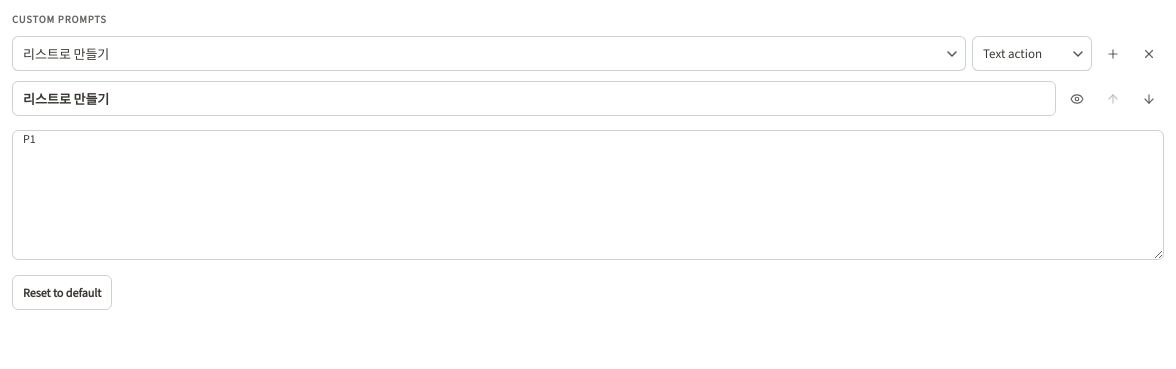
Test case: AiActionEditor — single-column preset editor (프리셋 관리 모달의 AI 액션 탭) › deleting the selected preset selects the next neighbour, and the one above when deleting the last
Click the button with test id "ai-action-select" at (66, 54), box [12,36,966,71]
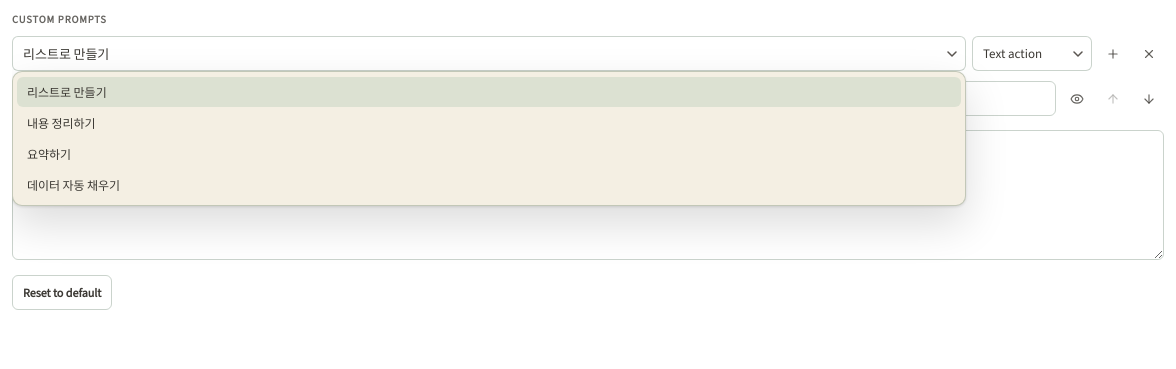
Click the option "내용 정리하기" at (61, 124), box [27,116,96,132]
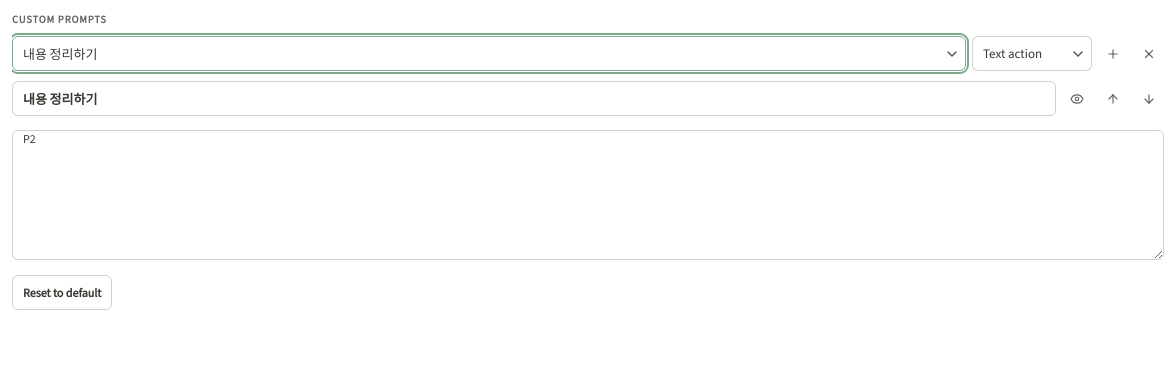
Click the button named "Delete" at (1149, 54), box [1134,38,1164,68]
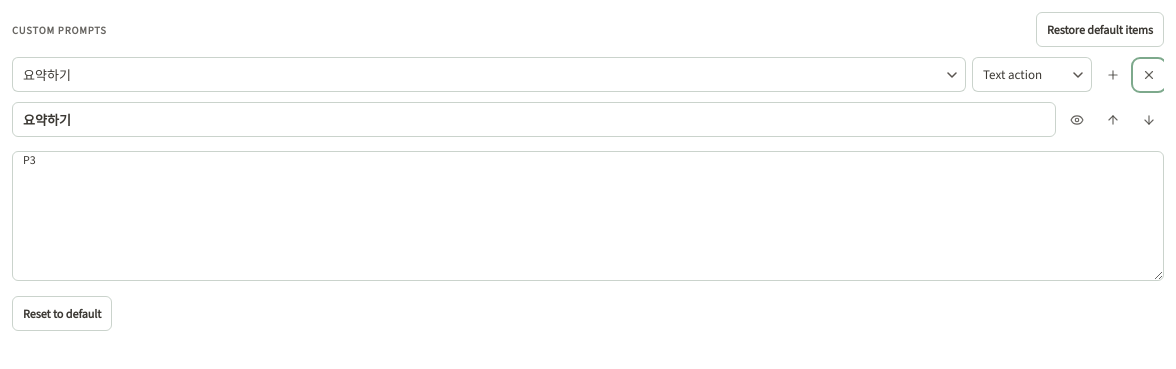
Expected: the button with test id "ai-action-select" reads "요약하기"
# Now delete the last one — the neighbour above takes over.
Click the button with test id "ai-action-select" at (47, 76), box [12,57,966,92]
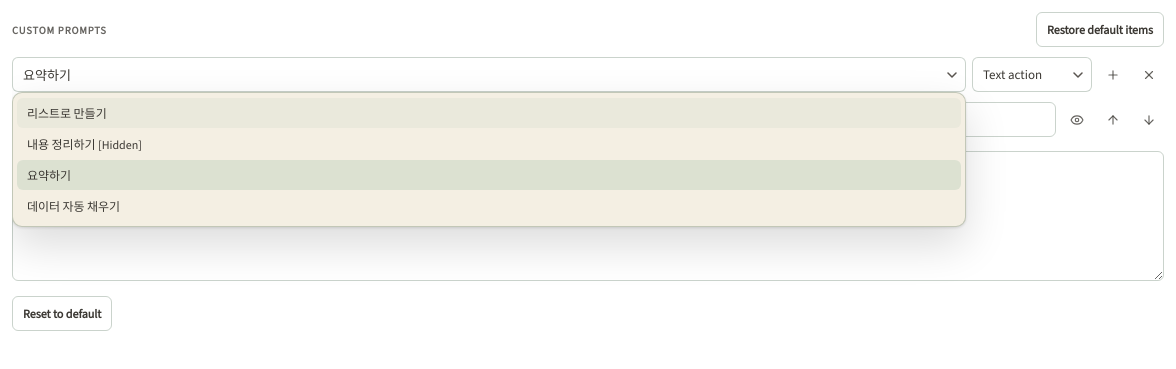
Click the option "데이터 자동 채우기" at (74, 207), box [27,199,120,215]
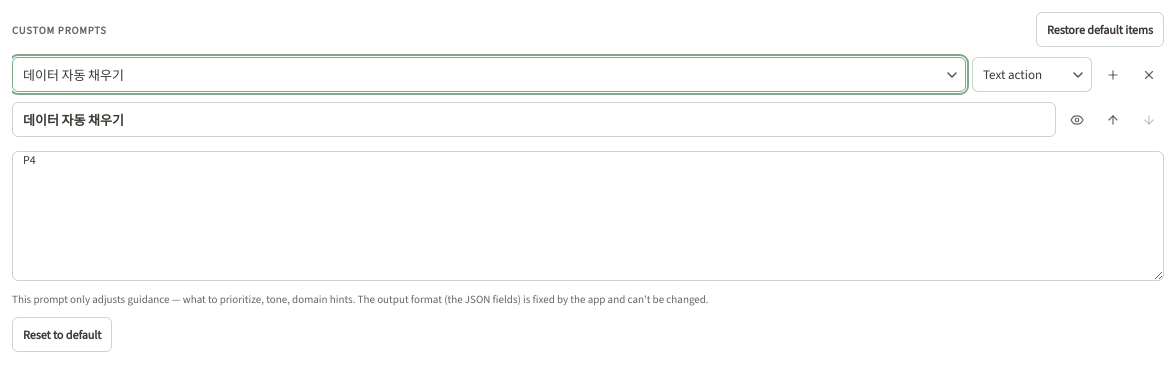
Click the button named "Delete" at (1149, 74), box [1134,60,1164,90]
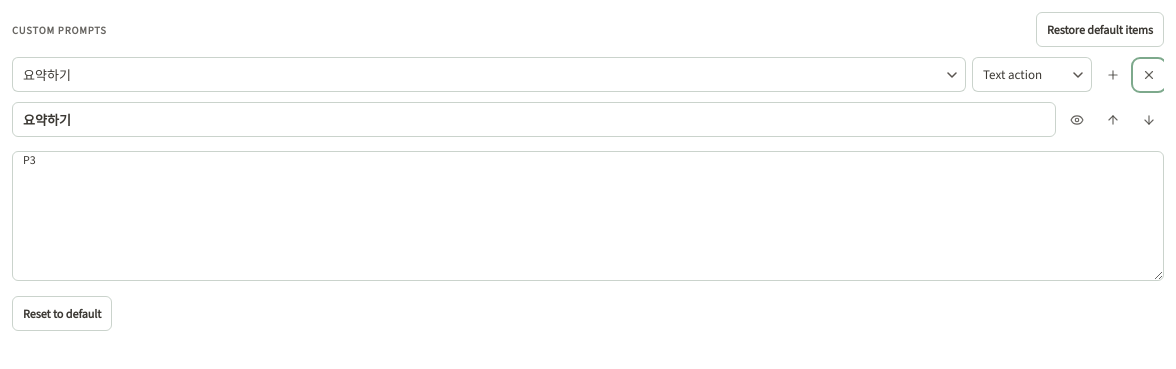
Expected: the button with test id "ai-action-select" reads "요약하기", [12,57,966,92]
